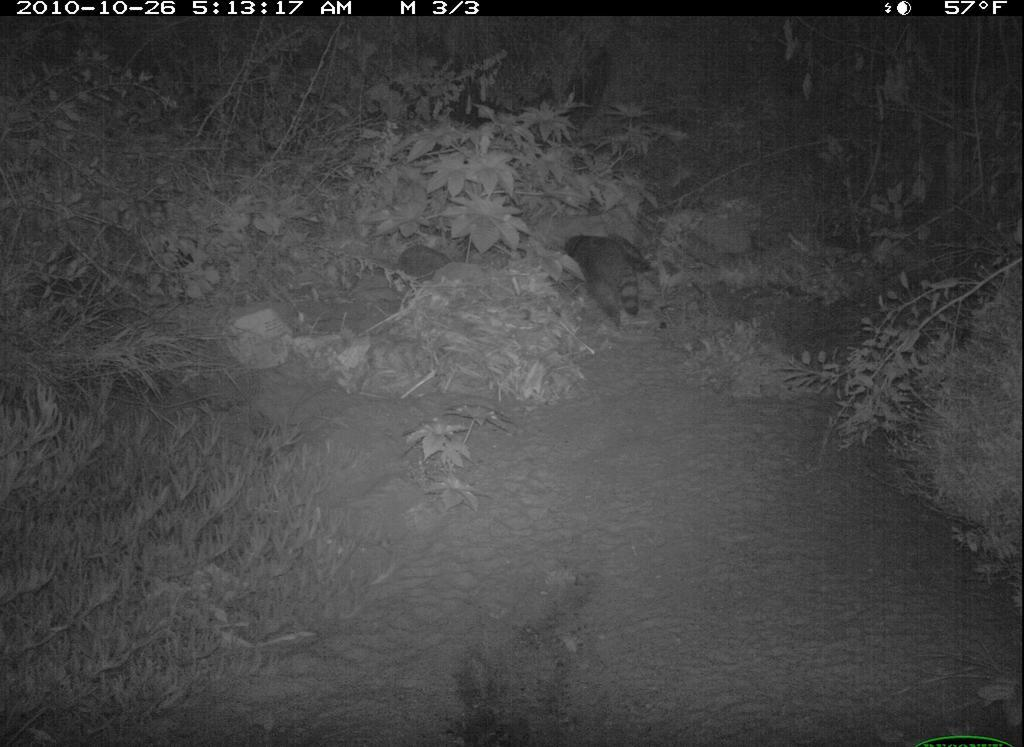raccoon: (553, 235, 665, 333)
